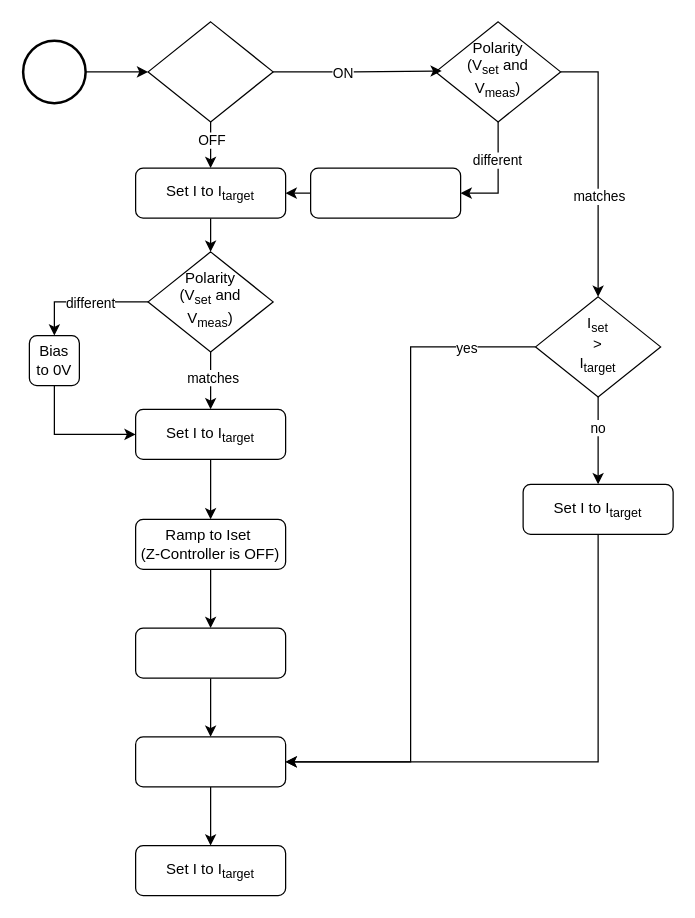
Image size: 695x918. Some labels were removed from this diagram. The shapes that lost their labels are listed below. From the top down, each one's centre as x and y in pixels, then its label:
At (x=210, y=71): "Z-Controller ON/OFF?".
At (x=385, y=192): "Turn off Z-Control".
At (x=210, y=652): "set Z-Control ON".
At (x=210, y=761): "Direct Ramp".
